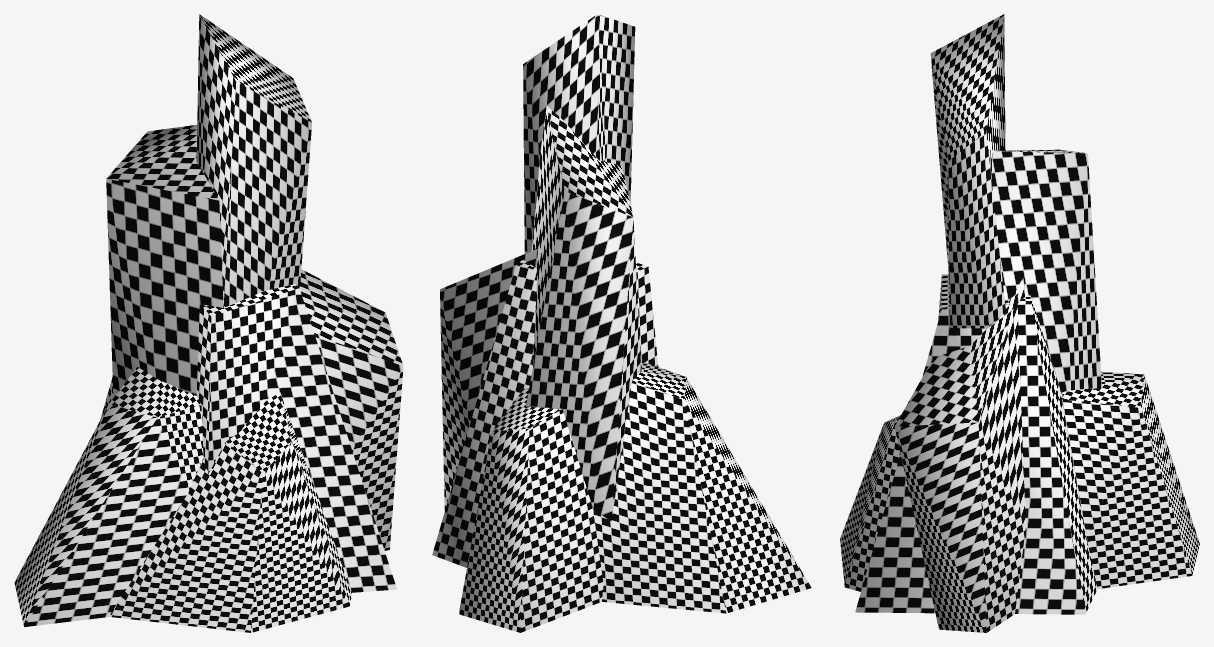
Rendered from naflte3.dae.
The picture shows the model from 3 angles, left to right: view 1: azimuth 30°, elevation 25°; view 2: azimuth 150°, elevation 25°; view 3: azimuth 270°, elevation 25°; orthographic projection.
Visible parts, largest first — view 1: termitary; view 2: termitary; view 3: termitary.
Part boxes in pixels (x1,y1,x2,y2): termitary: [14, 14, 403, 632]; termitary: [432, 14, 811, 632]; termitary: [840, 14, 1199, 632].
Size of the model in its own units: 1.88 by 1.61 by 2.67.
1 material, 1 textured.
